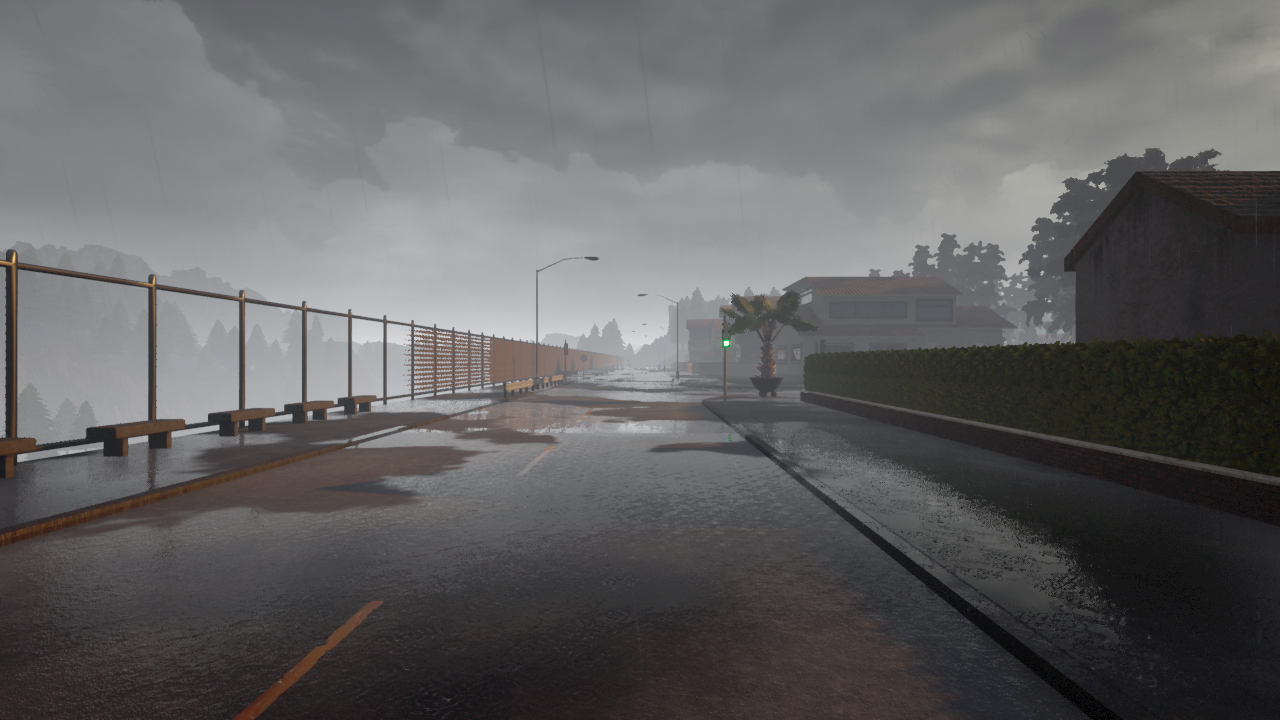green: (722, 322, 730, 348)
